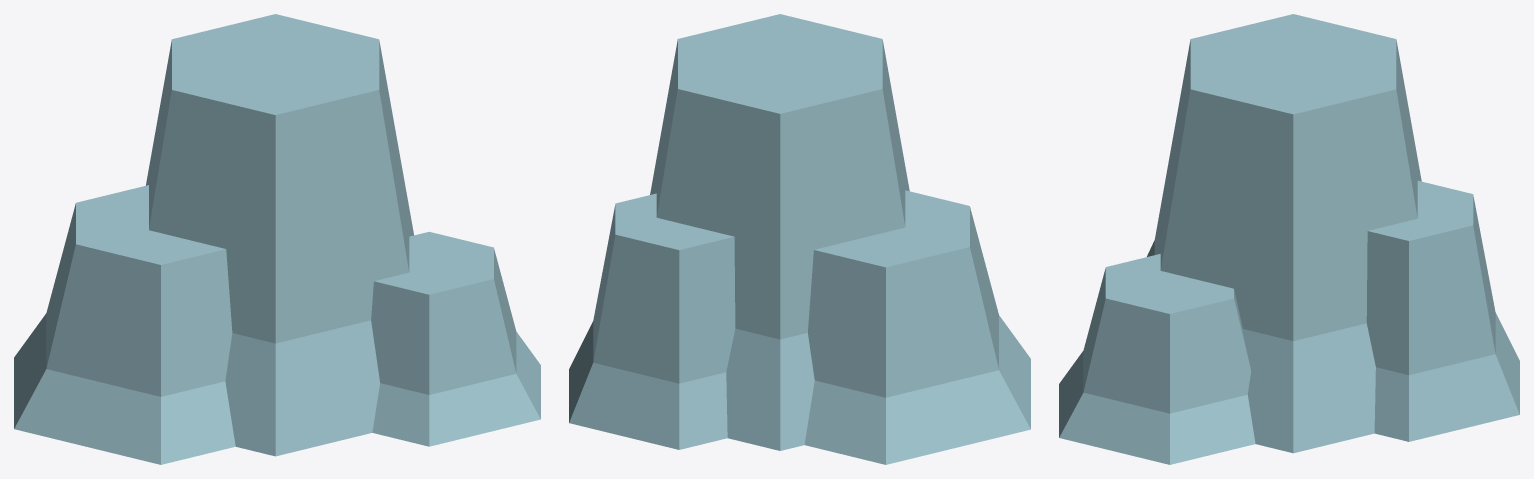
The model's file is rocksTall.obj.
3 renders of one model, left to right at view 1: azimuth 30°, elevation 25°; view 2: azimuth 150°, elevation 25°; view 3: azimuth 270°, elevation 25°, orthographic.
Parts seen in each view (by area): view 1: rocksTall; view 2: rocksTall; view 3: rocksTall.
Part boxes in pixels (box(x1,y1,x2,y2)): rocksTall: box(14, 14, 540, 464); rocksTall: box(569, 14, 1030, 464); rocksTall: box(1059, 14, 1519, 464).
Bounding box in the file's own units: 0.9342 × 0.59 × 0.8148.
